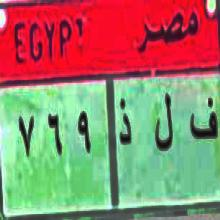6: (46, 106, 64, 168)
7: (18, 109, 36, 165)
9: (74, 105, 94, 166)
faa: (187, 92, 220, 148)
laam: (151, 91, 175, 158)
zaal: (116, 97, 135, 156)
